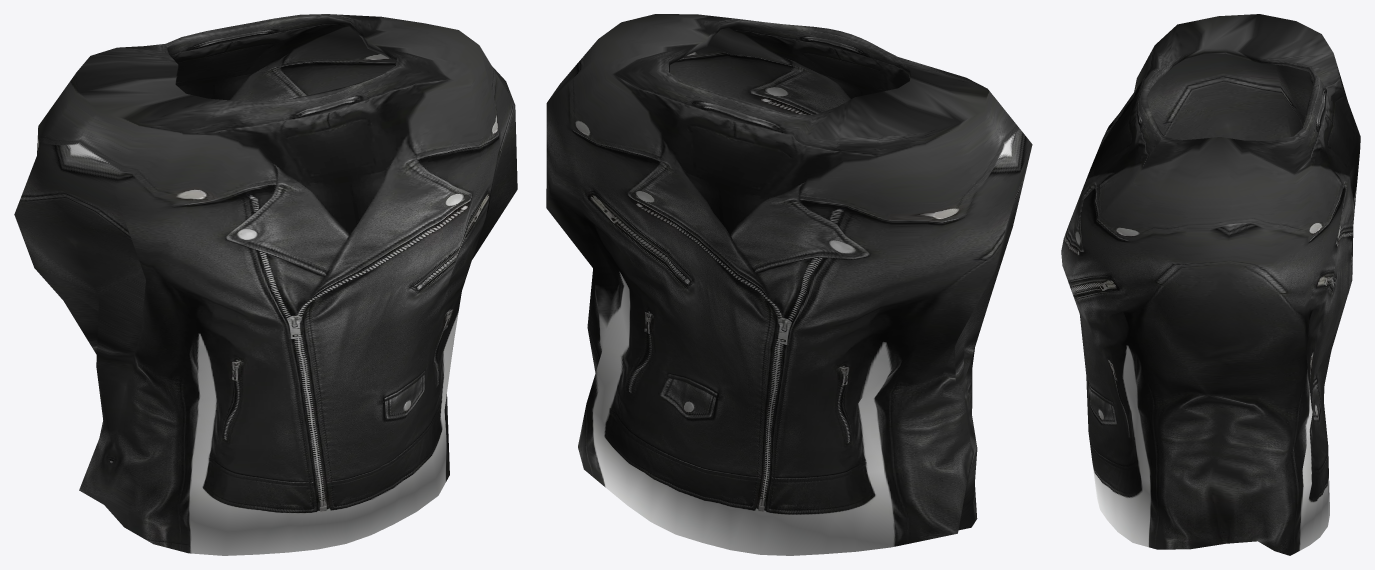
File: 099bc5e5-2ab1-4b24-91ad-a5e50e9dba8a.glb
3 views of the same model, side by side, from view 1: azimuth 30°, elevation 25°; view 2: azimuth 150°, elevation 25°; view 3: azimuth 270°, elevation 25° (orthographic). The views are drawn at different scales.
Parts seen in each view (by area): view 1: garment; view 2: garment; view 3: garment.
Boxes of the visible parts, bbox=[...] form: garment: bbox=[14, 14, 517, 555]; garment: bbox=[546, 14, 1032, 555]; garment: bbox=[1061, 14, 1360, 555].
Bounding box in the file's own units: 0.547 × 0.498 × 0.3327.
Materials: 1 (1 with a texture image).
